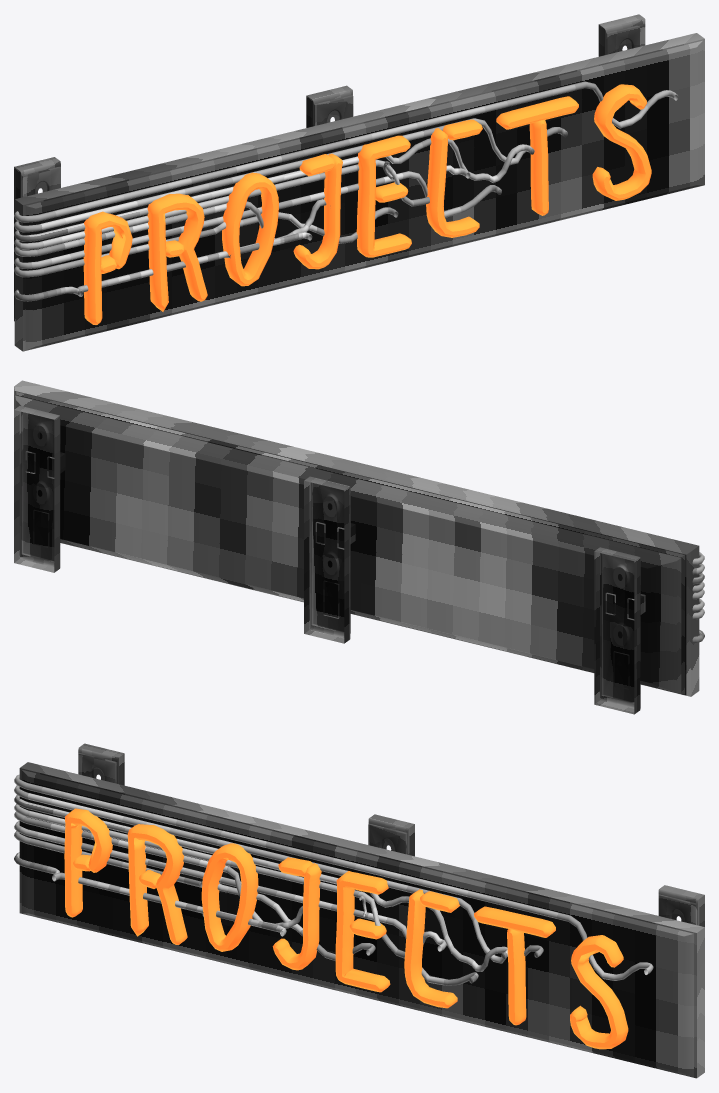
The model's file is project_sign.glb.
The picture shows the model from 3 angles, top to bottom: view 1: azimuth 30°, elevation 25°; view 2: azimuth 150°, elevation 25°; view 3: azimuth 330°, elevation 25°; orthographic projection.
Parts seen in each view (by area): view 1: Cylinder.001_cover_0, Projects, Cylinder.001_cables_0, Cylinder.001_wall_mount_0; view 2: Cylinder.001_cover_0, Cylinder.001_wall_mount_0, Cylinder.001_cables_0; view 3: Cylinder.001_cover_0, Projects, Cylinder.001_cables_0, Cylinder.001_wall_mount_0.
Boxes of the visible parts, x1,y1,x2,y2 form: Cylinder.001_cover_0: (14, 33, 704, 351); Projects: (83, 84, 651, 324); Cylinder.001_cables_0: (14, 81, 678, 301); Cylinder.001_wall_mount_0: (14, 14, 645, 321); Cylinder.001_cover_0: (14, 380, 699, 696); Cylinder.001_wall_mount_0: (14, 406, 645, 714); Cylinder.001_cables_0: (692, 552, 704, 643); Cylinder.001_cover_0: (19, 762, 704, 1078); Projects: (64, 808, 628, 1049); Cylinder.001_cables_0: (14, 774, 653, 985); Cylinder.001_wall_mount_0: (78, 743, 704, 926).
Size of the model in its own units: 395 by 84.72 by 49.58.
4 materials, 3 textured.
